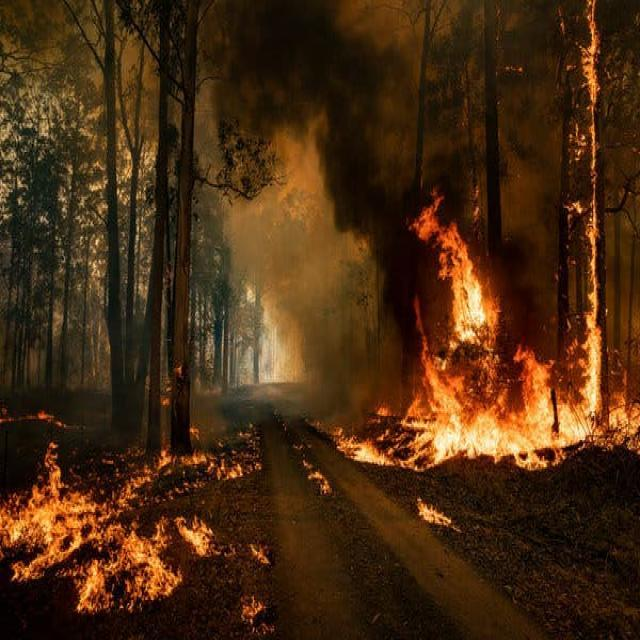Fire: (355, 199, 640, 544), (0, 411, 287, 624), (550, 0, 625, 200)
Smoke: (192, 122, 349, 401)
